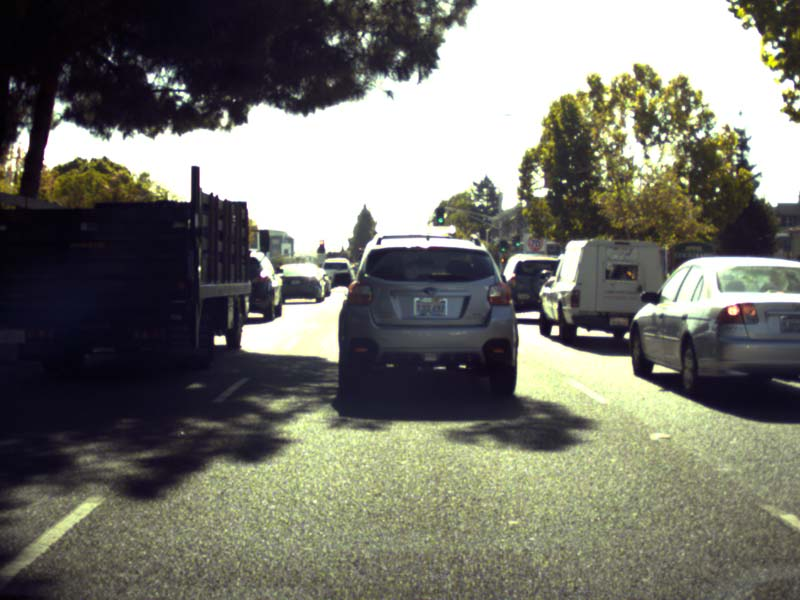Green: (435, 207, 444, 224), (512, 234, 520, 248), (499, 240, 507, 251)
Red: (318, 239, 325, 253), (357, 247, 362, 255)
